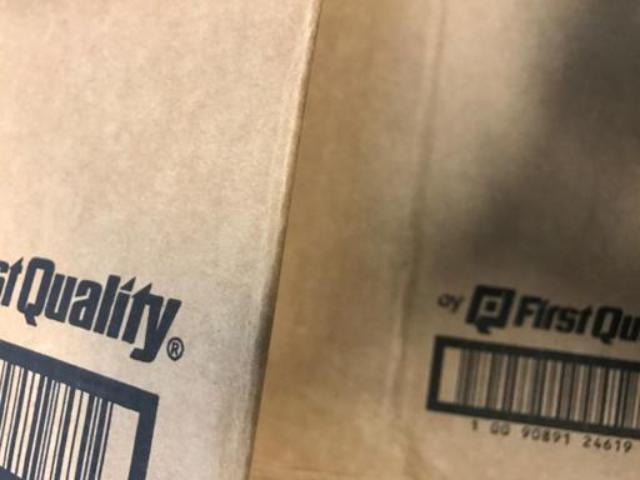cardboard paper: (250, 0, 638, 475), (0, 0, 316, 476)
